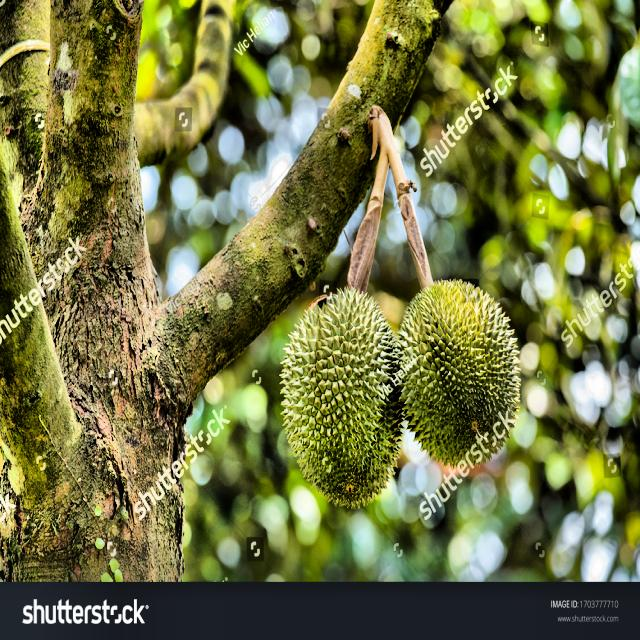arvore: (0, 0, 244, 614)
